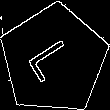L_NE: (25, 33, 83, 86)
